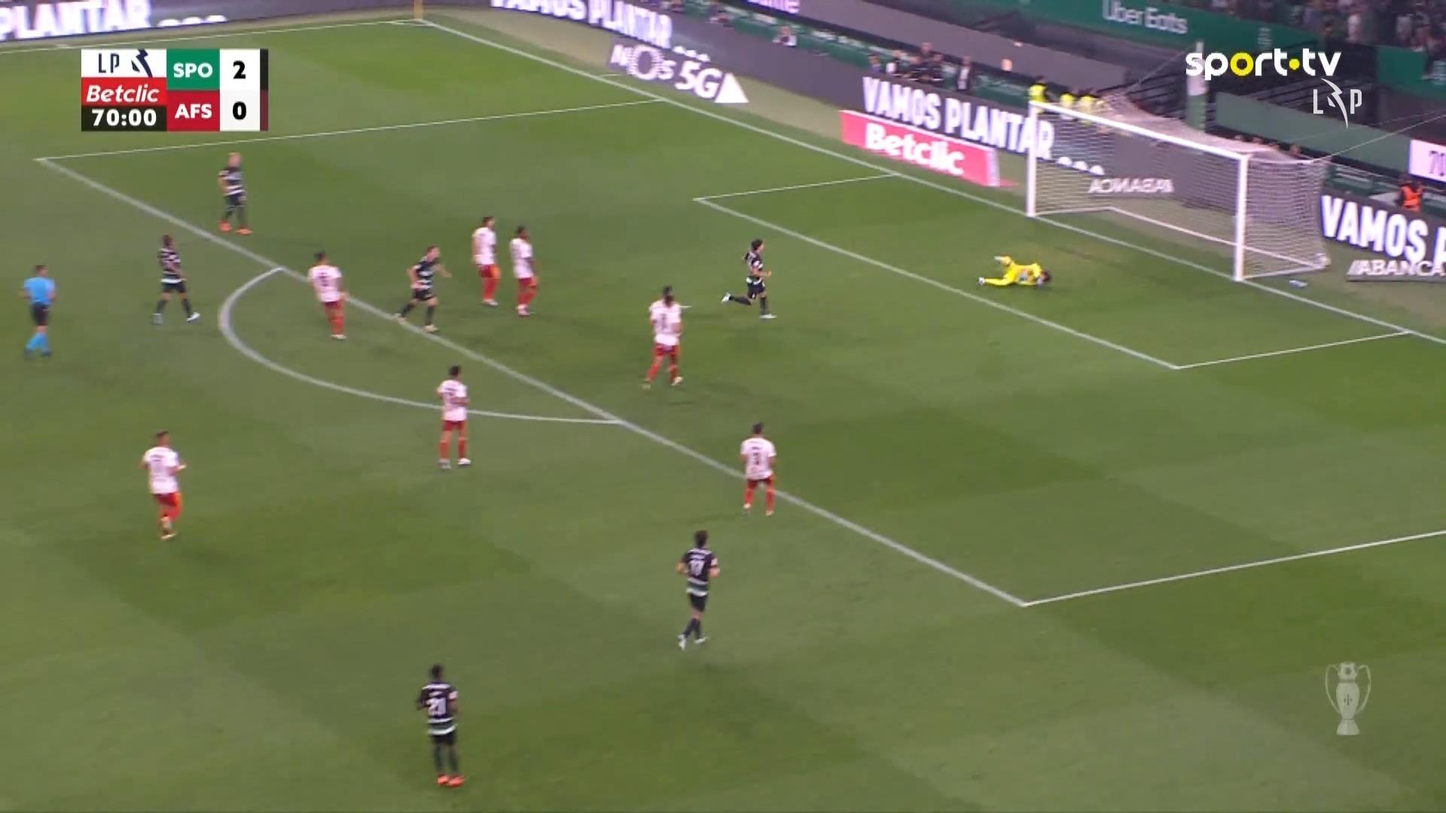ball: (751, 259, 762, 270)
goalkeeper: (977, 253, 1051, 289)
player: (415, 662, 465, 787), (674, 528, 719, 650), (640, 285, 691, 391), (140, 428, 187, 540), (392, 244, 451, 333), (720, 238, 777, 320), (150, 233, 200, 325), (435, 364, 471, 470), (307, 250, 349, 340), (738, 421, 777, 516), (216, 151, 252, 235), (508, 224, 539, 316), (471, 215, 501, 306)
referee: (18, 262, 56, 359)
